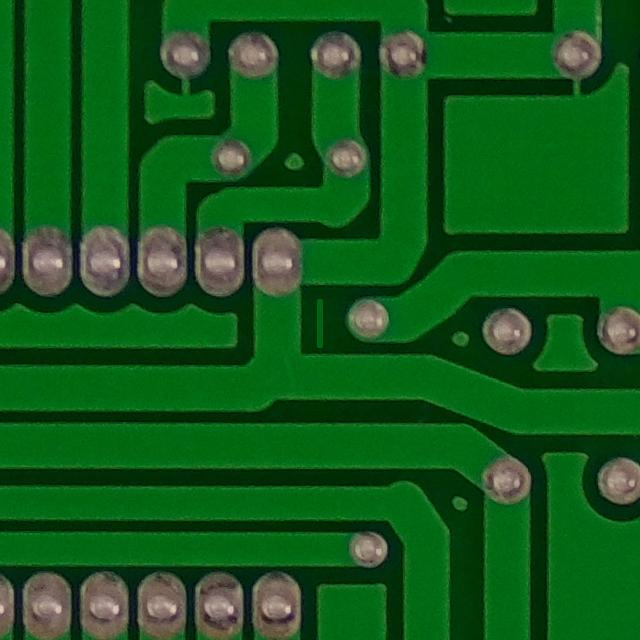spurious_copper: (299, 285, 342, 355)
